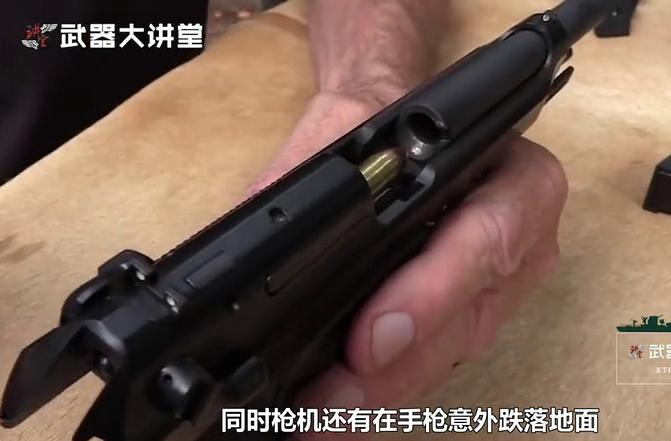gun: (1, 1, 671, 441)
